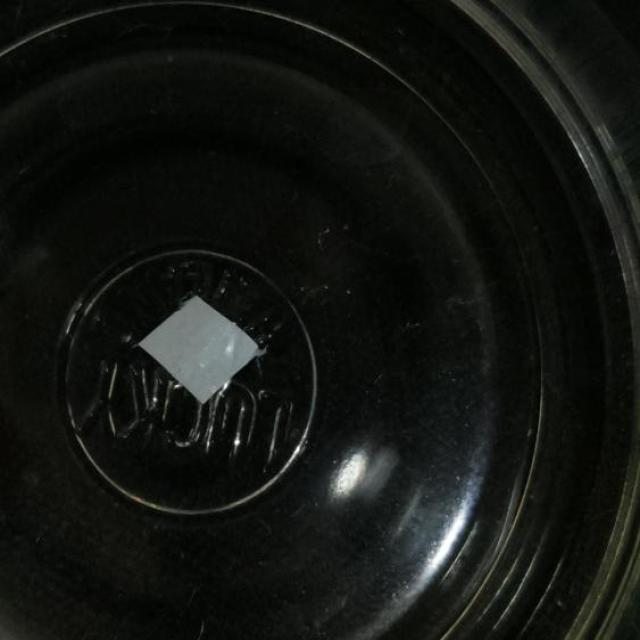fiber: (135, 289, 262, 406)
